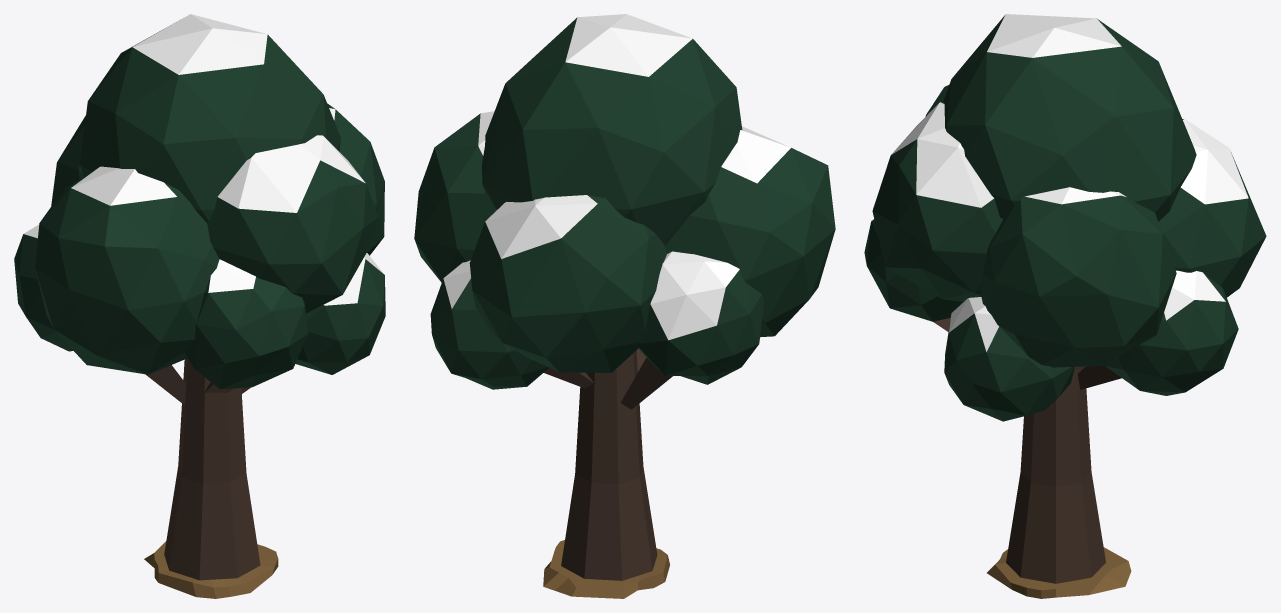
Rendered from winter_tree_2.fbx.
3 renders of one model, left to right at view 1: azimuth 30°, elevation 25°; view 2: azimuth 150°, elevation 25°; view 3: azimuth 270°, elevation 25°, orthographic.
Visible parts, largest first — view 1: Icosphere.004, Icosphere.008, Icosphere.006, Cylinder, Icosphere.001, Icosphere, Icosphere.003, Icosphere.005, Icosphere.007; view 2: Icosphere.004, Icosphere.007, Icosphere.008, Cylinder, Icosphere.003, Icosphere.005, Icosphere.002; view 3: Icosphere.004, Icosphere.005, Cylinder, Icosphere.006, Icosphere.007, Icosphere.002, Icosphere, Icosphere.001.
Boxes of the visible parts, x1,y1,x2,y2 form: Icosphere.004: (80,14,340,223); Icosphere.008: (35,166,219,374); Icosphere.006: (207,135,378,313); Cylinder: (144,358,278,598); Icosphere.001: (184,259,308,393); Icosphere: (241,253,385,393); Icosphere.003: (14,224,185,404); Icosphere.005: (327,103,384,255); Icosphere.007: (51,115,85,206); Icosphere.004: (482,14,742,245); Icosphere.007: (469,195,666,372); Icosphere.008: (665,126,835,337); Cylinder: (543,350,669,598); Icosphere.003: (620,251,764,409); Icosphere.005: (414,111,495,282); Icosphere.002: (430,260,593,389); Icosphere.004: (943,14,1196,221); Icosphere.005: (980,187,1176,367); Cylinder: (987,366,1131,598); Icosphere.006: (872,102,1002,301); Icosphere.007: (1158,119,1266,297); Icosphere.002: (1077,270,1238,395); Icosphere: (944,297,1074,421); Icosphere.001: (864,219,963,331).
Size of the model in its own units: 64.69 by 95.95 by 63.89.
